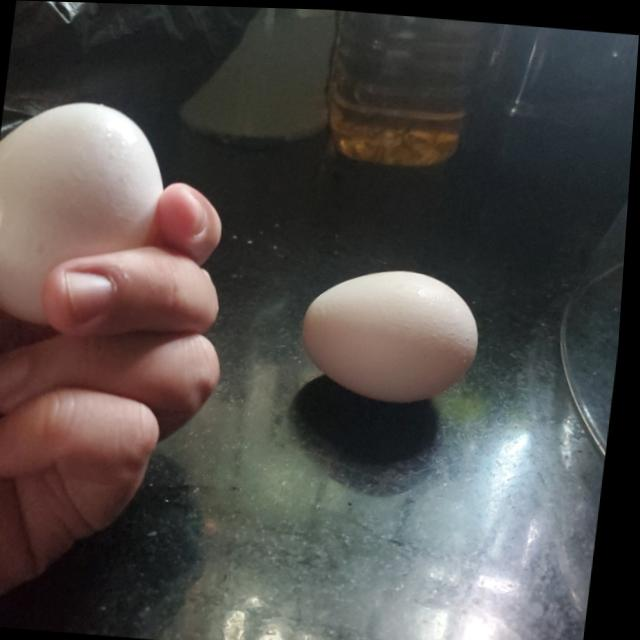egg: (0, 93, 173, 321), (306, 262, 496, 404)
